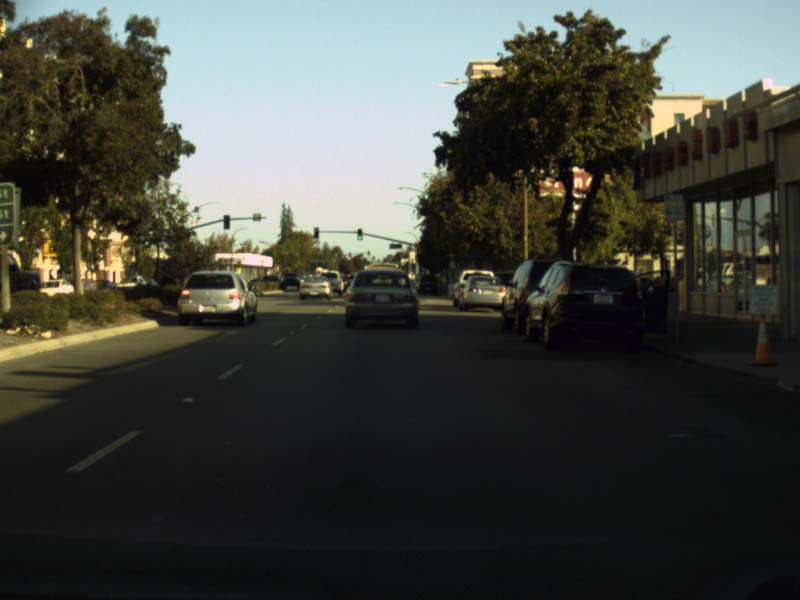Green: (356, 228, 363, 240)
Red: (313, 227, 318, 238)
